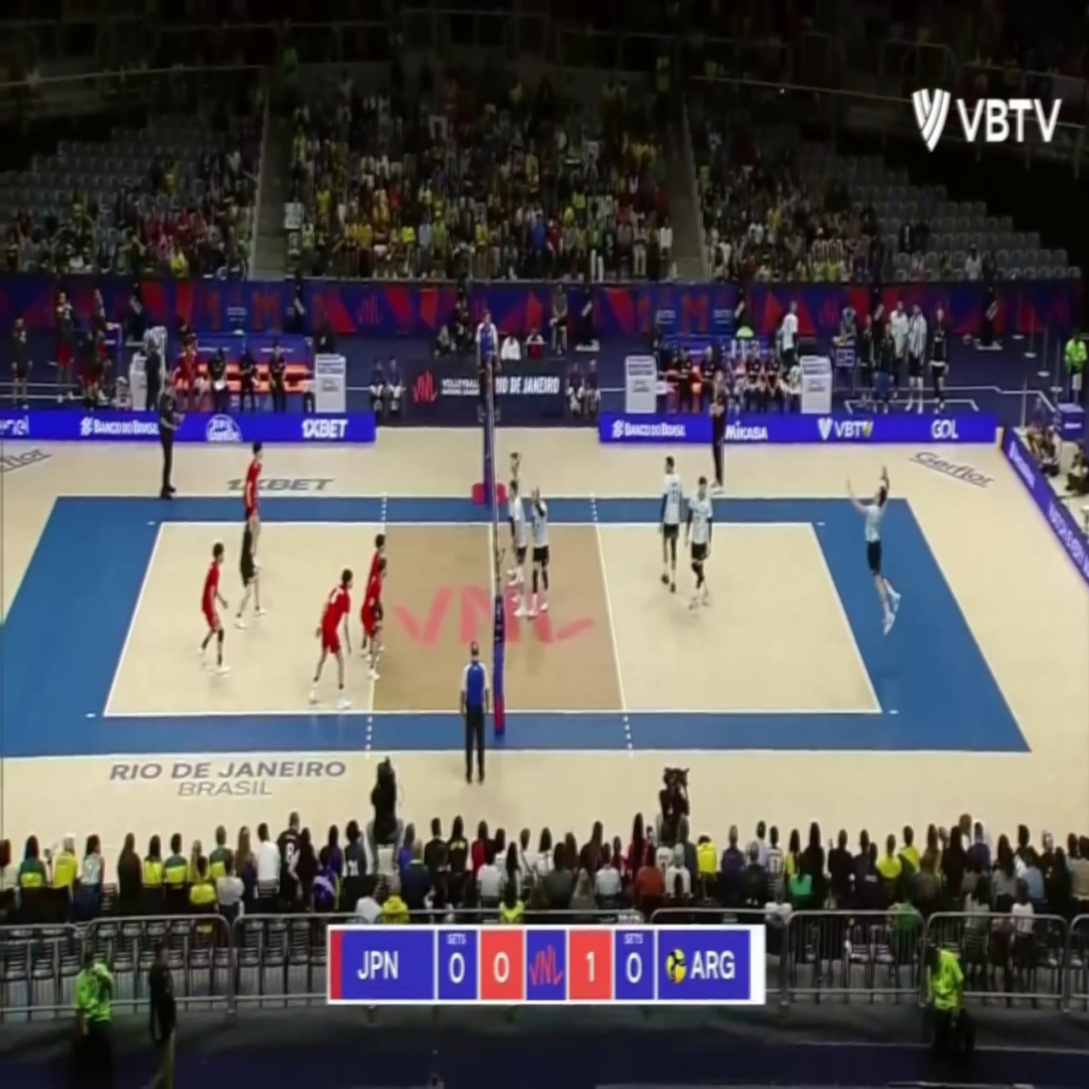ball: (861, 420, 870, 439)
